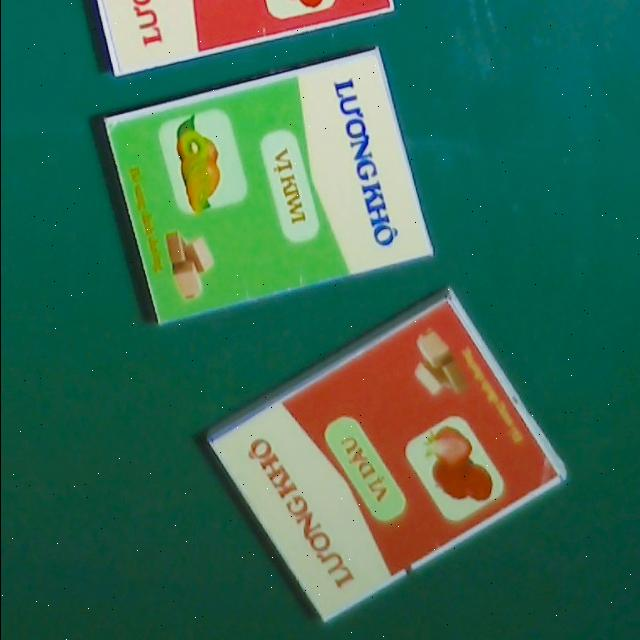dau: (201, 280, 571, 632), (97, 0, 393, 75)
kiwi: (104, 48, 432, 325)
